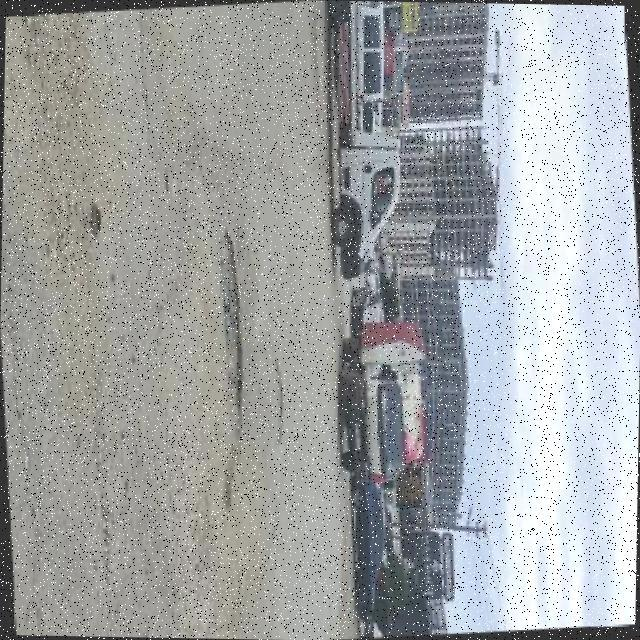Pothole: (221, 231, 241, 420)
